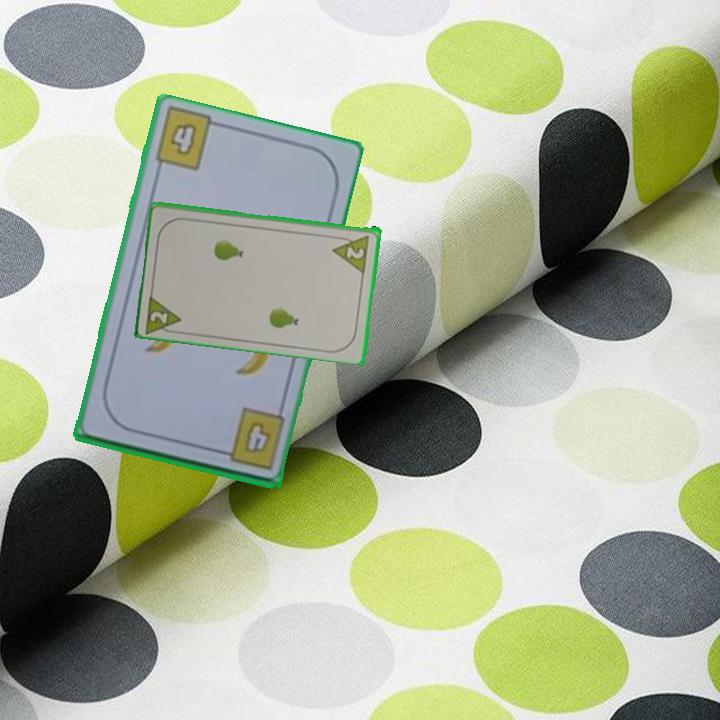2p: (142, 290, 185, 336), (330, 231, 372, 274)
4b: (213, 405, 288, 473), (166, 119, 199, 159)
